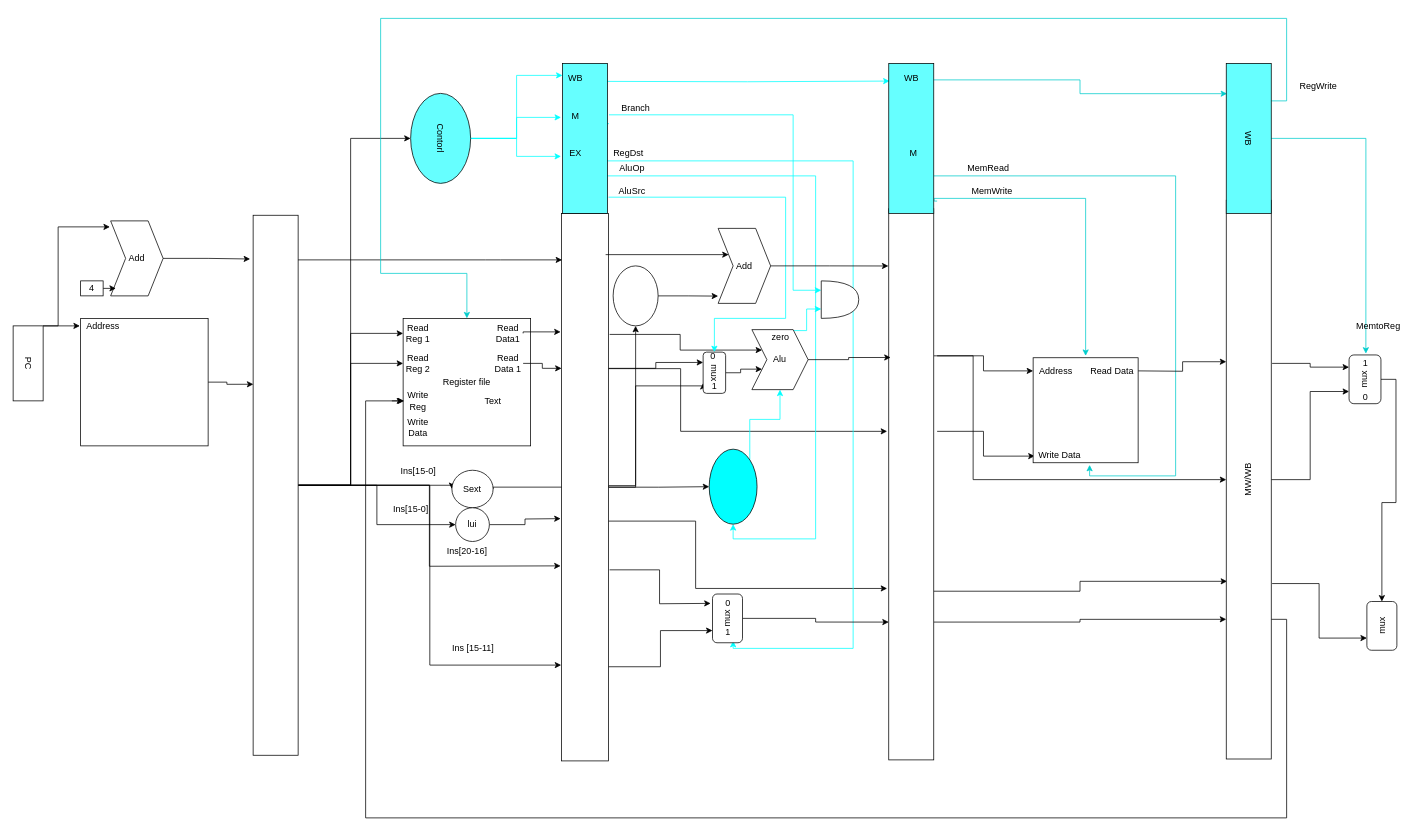
Some shapes in this 1418 by 837 pixel diagram are drawn without their labels. The shapes that lost their labels are listed below. From the top down, each one's box as (x1, y1, x2, y2) in pixels, then its label:
(612, 265, 658, 326): Shift left 2
(820, 280, 859, 318): And
(80, 318, 208, 446): Instruction Memory
(1032, 357, 1138, 463): Data memory
(252, 214, 298, 755): IF/ID
(561, 213, 608, 761): ID/EX
(708, 448, 757, 524): Alu control
(888, 208, 934, 760): EX/MEM
